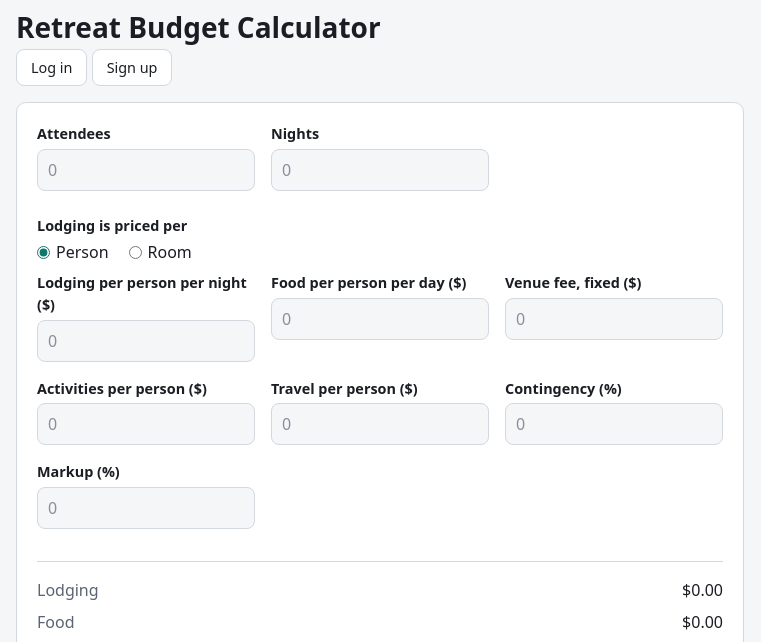
it: sign up › creates the account and tells the visitor to check their email
Click the button "Sign up".
click(132, 67)  # box [92,49,172,86]
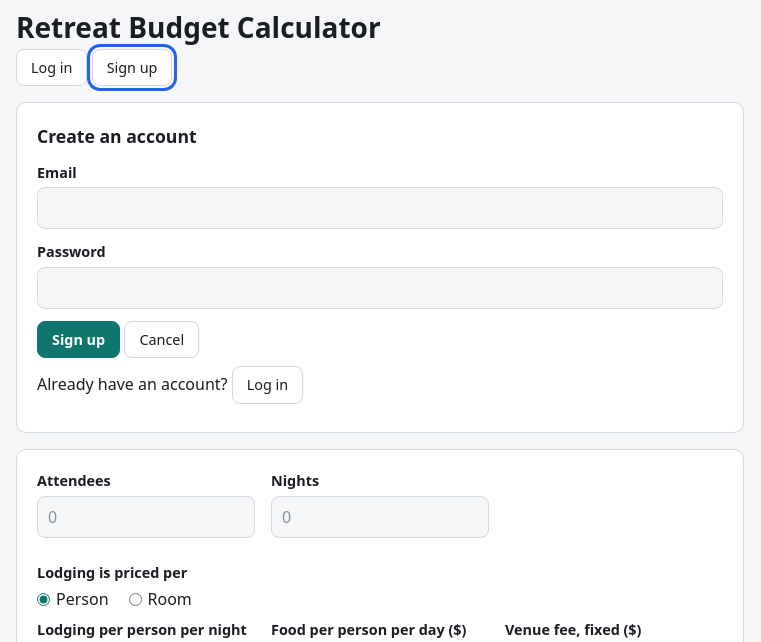
Clear the field labelled "Email" at (380, 208), box [37,187,723,229]
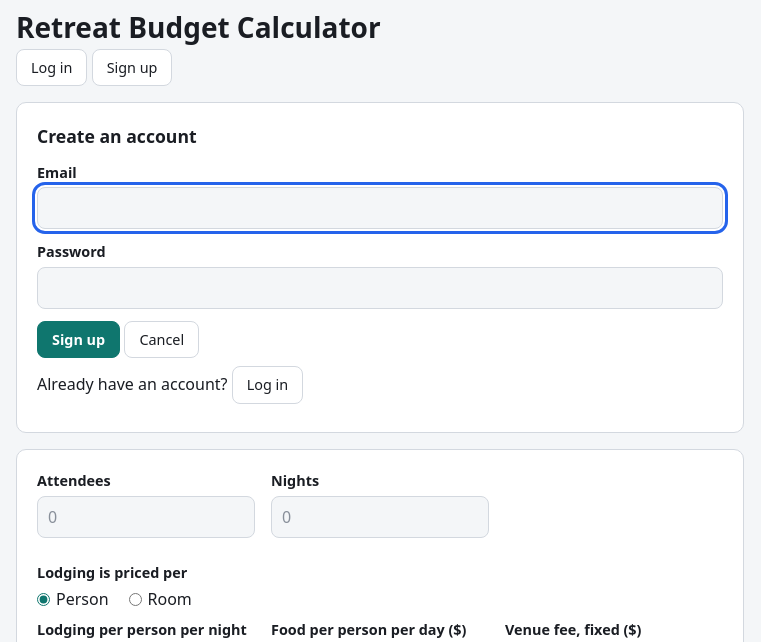
Clear the password field labelled "Password" at (380, 288), box [37,267,723,309]
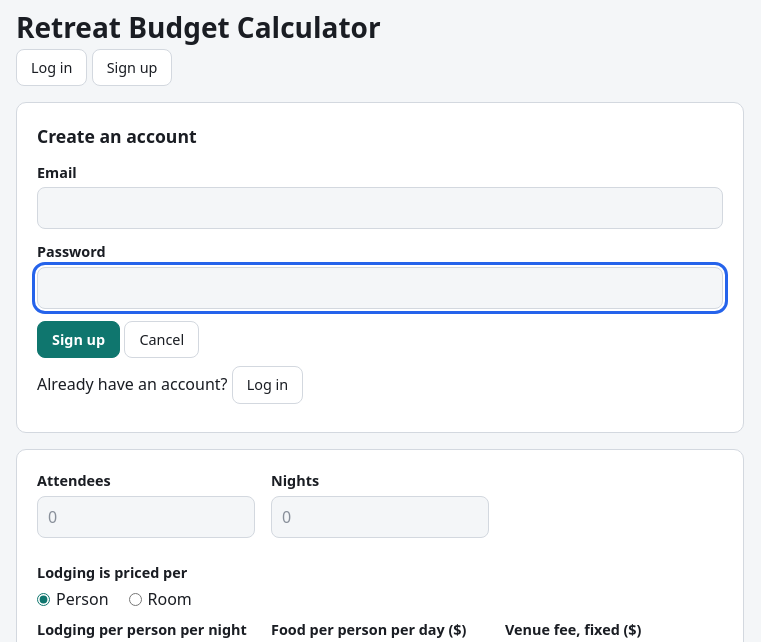
Type "new@example.com" into the field labelled "Email".
click(380, 208); type("new@example.com")  # box [37,187,723,229]
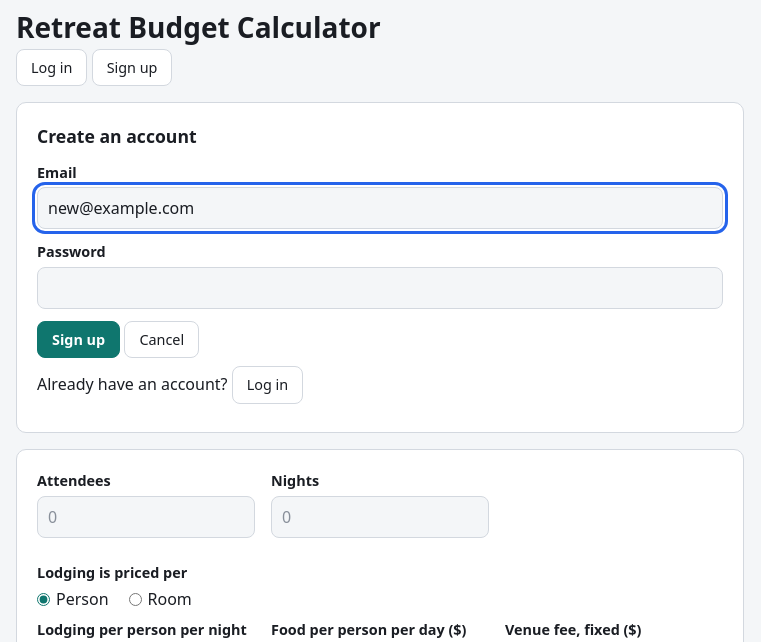
Type "long-enough-1" into the password field labelled "Password".
click(380, 288); type("long-enough-1")  # box [37,267,723,309]
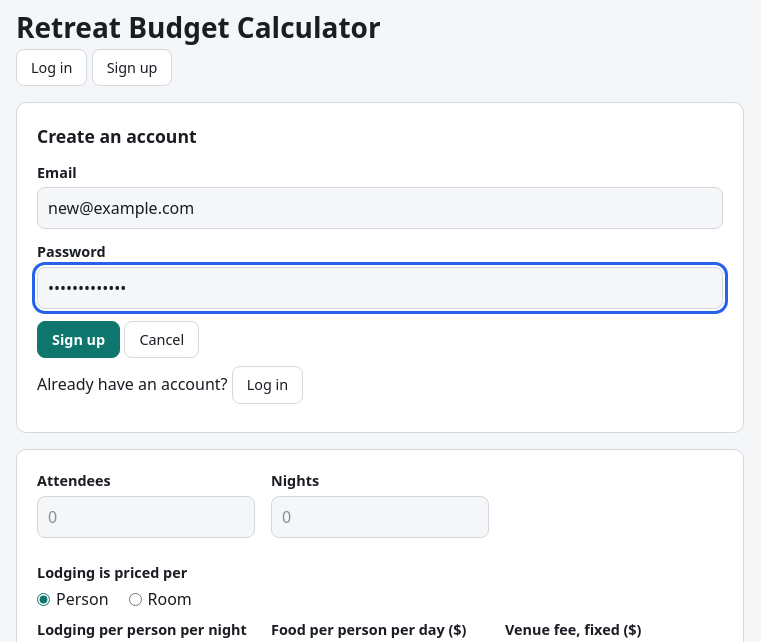
Click the submit button.
click(79, 340)  # box [37,321,120,358]
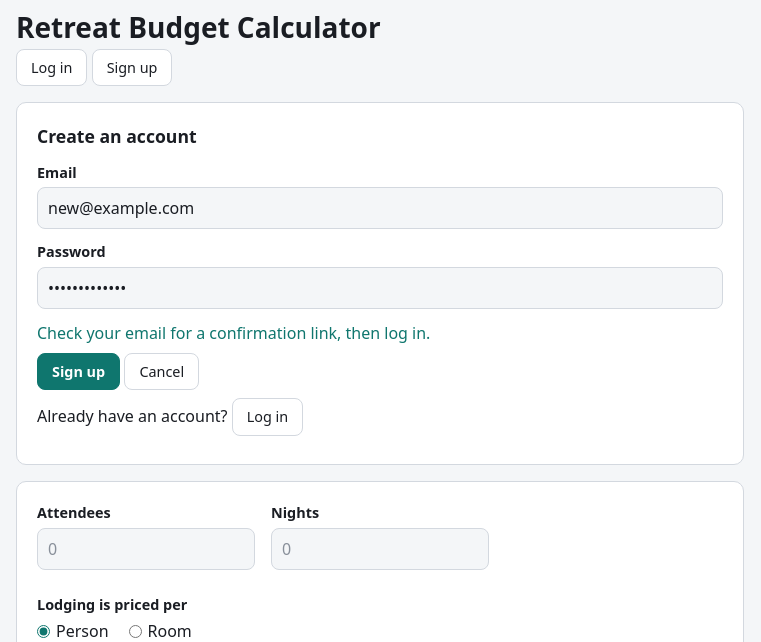
Check: the message shows "Check your email", box [37,322,430,344]
